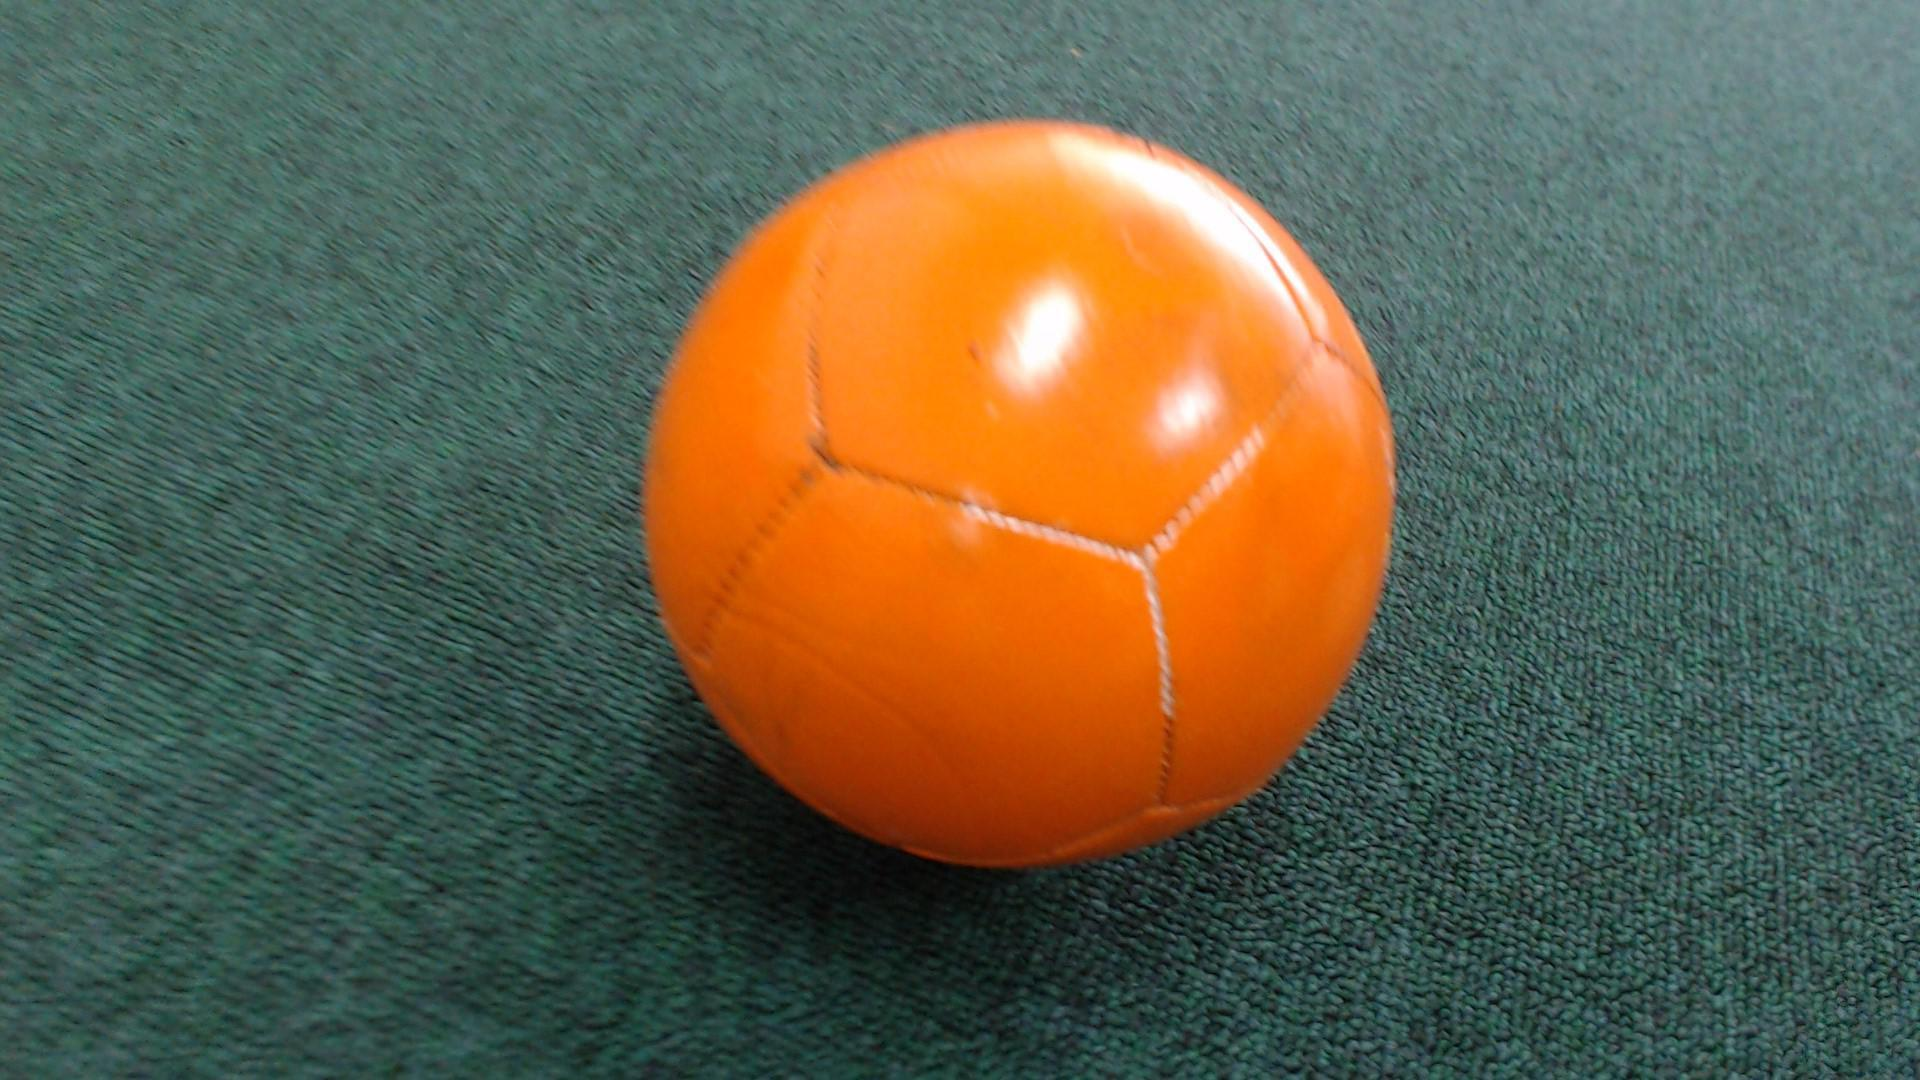bola: (588, 58, 1447, 902)
